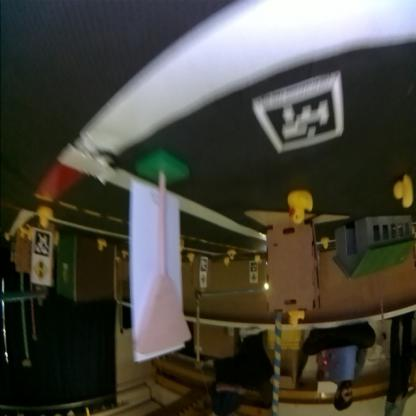Duckie: (288, 194, 312, 224), (396, 178, 414, 208), (39, 207, 53, 226), (290, 313, 304, 327), (98, 240, 107, 251), (320, 240, 330, 249), (228, 250, 236, 260), (189, 254, 195, 263)
QR code: (254, 80, 342, 151), (34, 233, 51, 259), (202, 259, 208, 272)
Signal sign: (32, 259, 51, 285)
